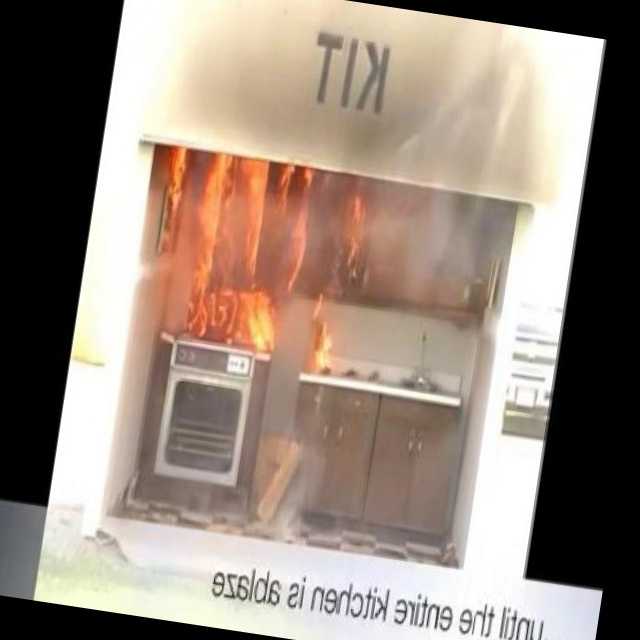fire: (127, 141, 392, 384)
smoke: (192, 0, 549, 197), (377, 181, 515, 371)
